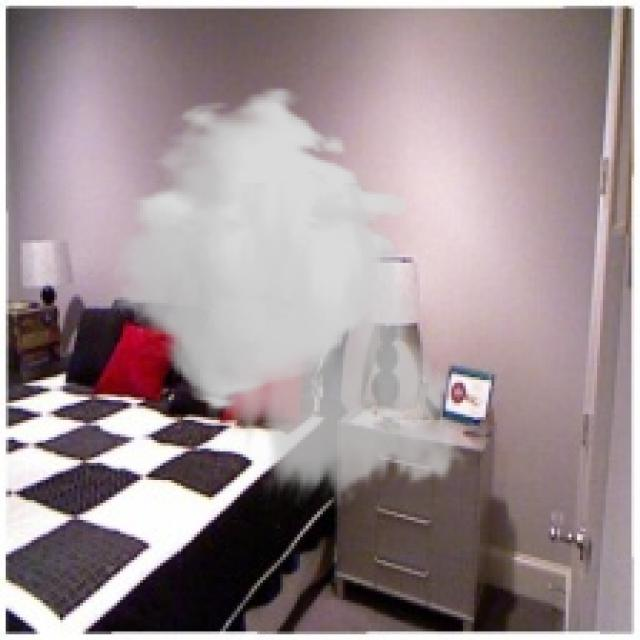smoke: (114, 86, 474, 508)
